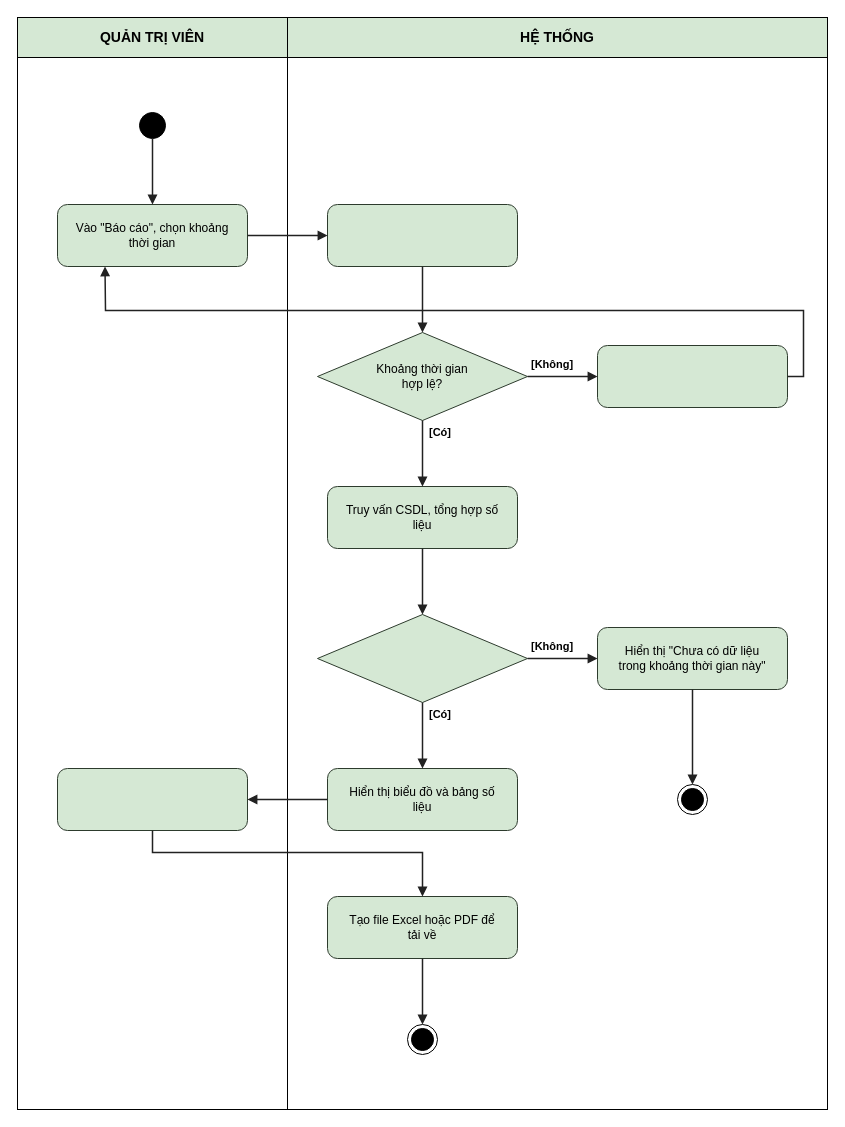
The diagram is 845 pixels wide and 1127 high, and some of its shapes have lost their labels. Here are the shapes that lost their labels. From the top down, the centre of each, then its label:
pixel 422 235: Kiểm tra khoảng thời gian
pixel 692 376: Thông báo, yêu cầu chọn lại
pixel 422 658: Có dữ liệu?
pixel 152 799: Click "Export" (tùy chọn)
